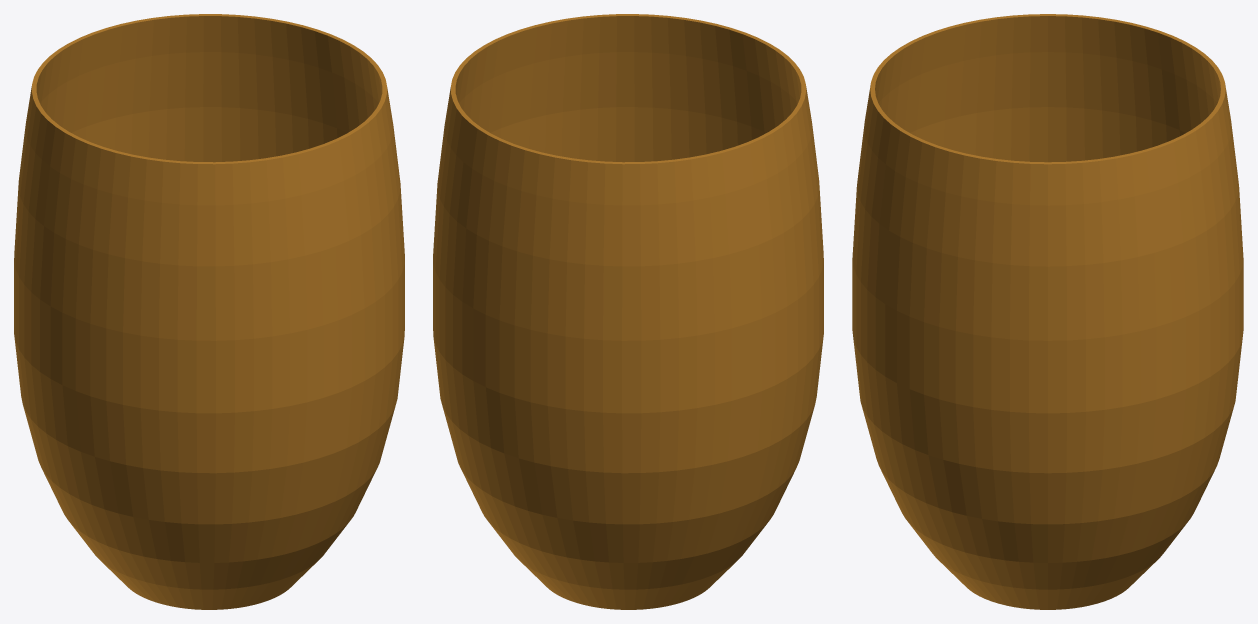
File: egg-cup.obj
The picture shows the model from 3 angles, left to right: view 1: azimuth 30°, elevation 25°; view 2: azimuth 150°, elevation 25°; view 3: azimuth 270°, elevation 25°; orthographic projection.
Parts seen in each view (by area): view 1: EggCup; view 2: EggCup; view 3: EggCup.
Part boxes in pixels (x1=…): EggCup: x1=14, y1=14, x2=404, y2=609; EggCup: x1=433, y1=14, x2=823, y2=609; EggCup: x1=852, y1=14, x2=1243, y2=609.
Size of the model in its own units: 6.6 by 9 by 6.6.
